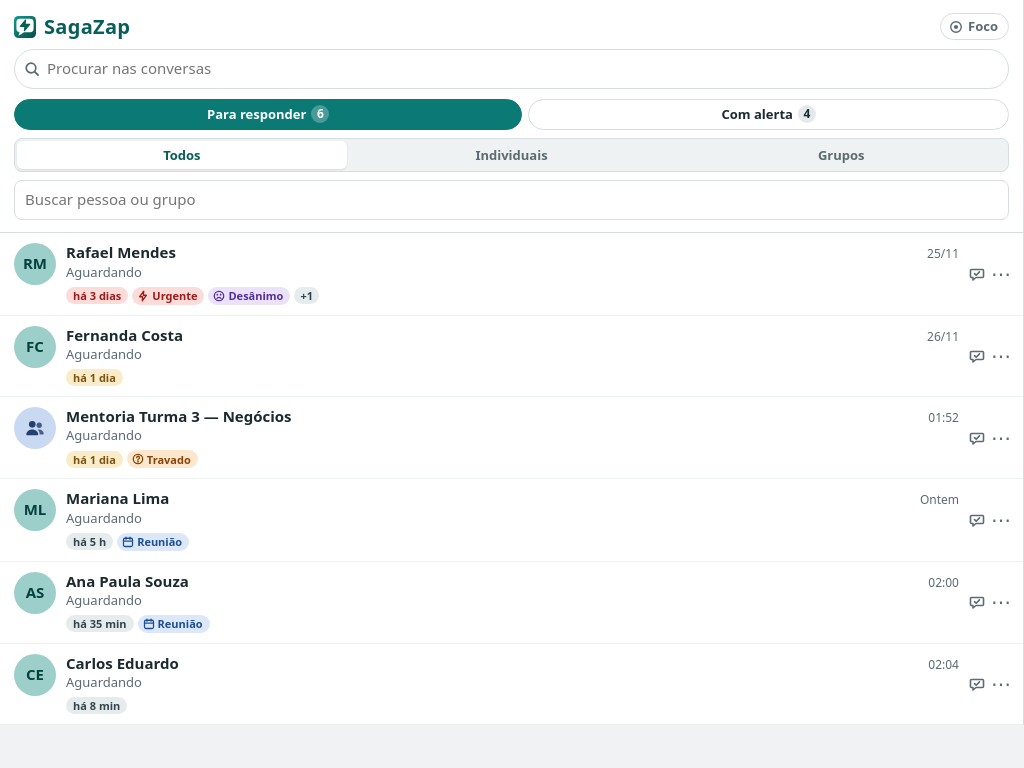
Scenario: ContactList: "Não precisa responder" em "Para responder" › Cancelar fecha sem registrar
This screenshot has width=1024, height=768.
What coordinates should you click on to do the following:
click the button named "Não precisa responder: Ana Paula Souza"
I would click on:
 (976, 602)
Its box is [963,589,989,615].
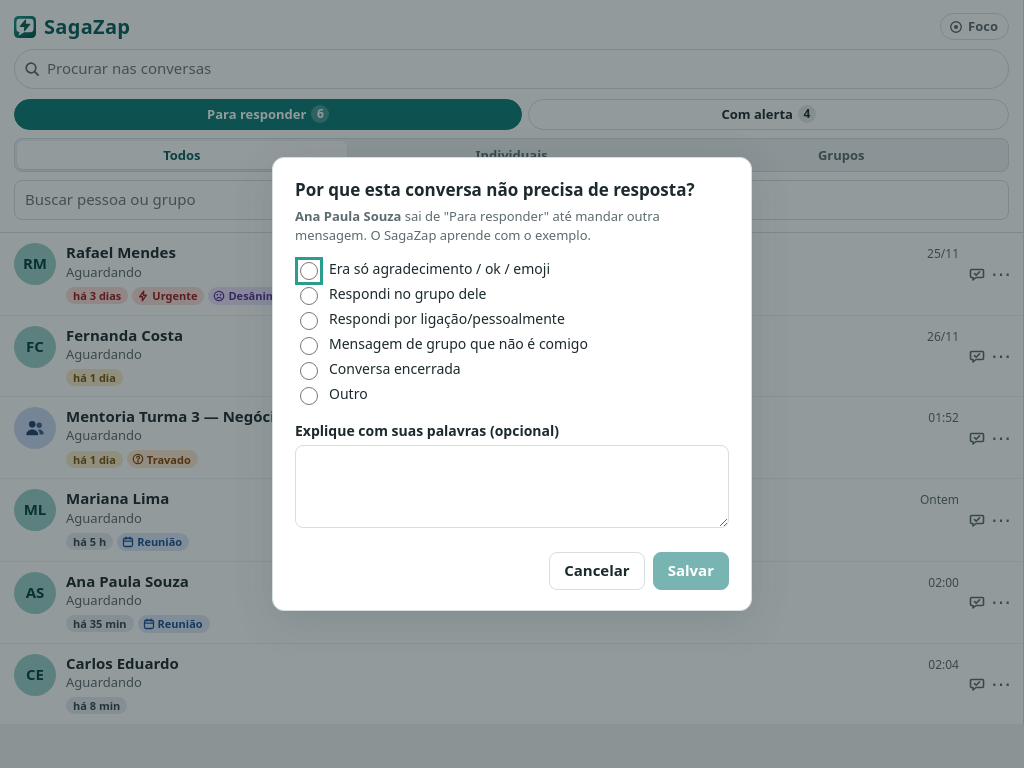
What coordinates should you click on to do the following:
click the button "Cancelar"
I would click on:
 (597, 571)
Its box is [549,552,645,590].
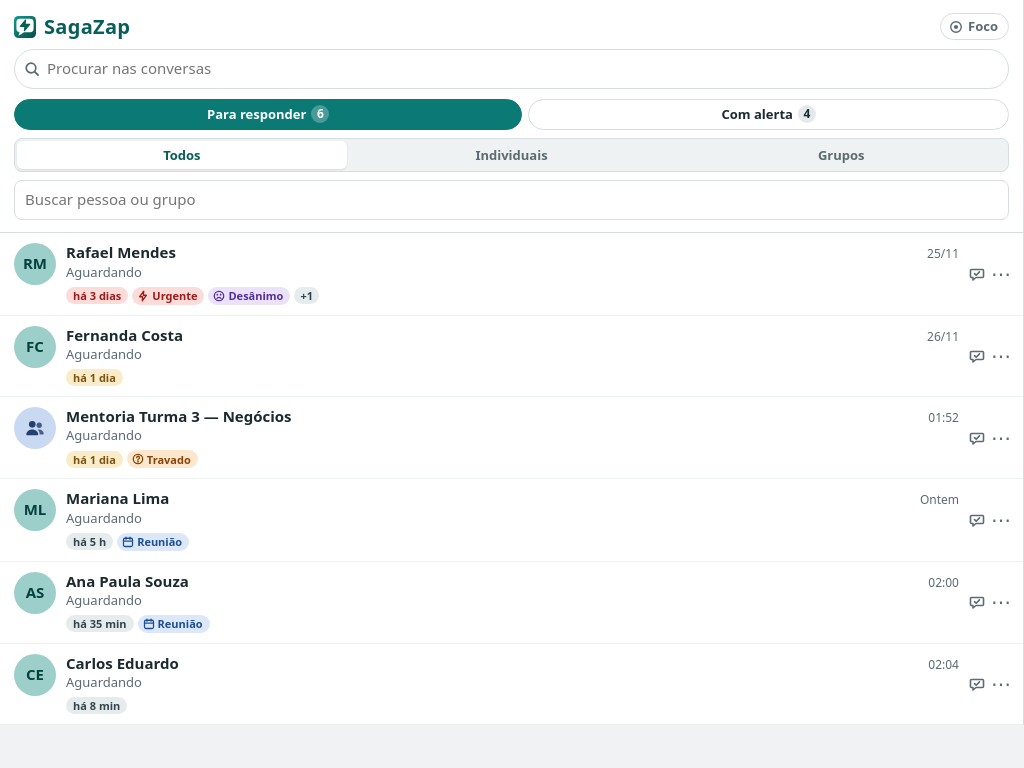
Expected: the text "Ana Paula Souza" is shown, [66,571,189,591]
Expected: the dialog is gone
